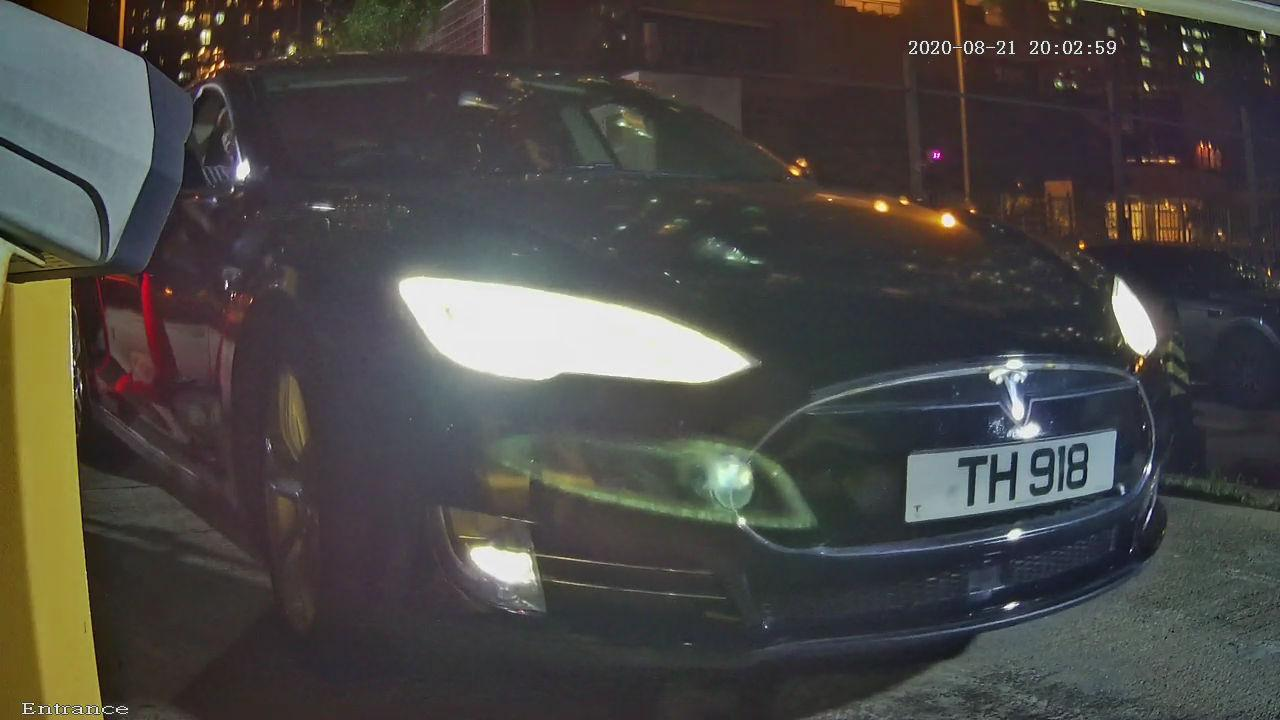License Plate: (852, 411, 1151, 548)
